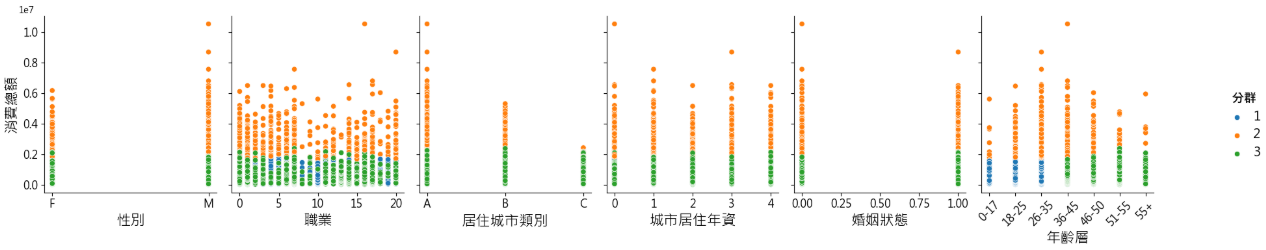

The dashboard page shown, as its layout file describes it:
{"tool":"powerbi","page":{"name":"各屬性與購買金額的分群結果","canvas":[1280,720],"ordinal":0},"visuals":[{"type":"pythonVisual","fields":{"Values":["K-prototypes用資料.City_Category","K-prototypes用資料.Cluster","K-prototypes用資料.Gender","K-prototypes用資料.Marital_Status","K-prototypes用資料.Occupation","K-prototypes用資料.Age","K-prototypes用資料.Purchase_Amount_Sum","K-prototypes 分群.Stay_In_Current_City_Years"]},"box":[18.7,17.6,1261.3,264.4],"z":0}]}

Visuals, with their boxes on the page's 1280x720 design canvas (x1, y1, x2, y2). These are canvas units, not pixel positions in the 1266x250 screenshot, which may show the page scaled, cropped or inside an application window:
pythonVisual - K-prototypes用資料.City_Category x K-prototypes用資料.Cluster: box=[19, 18, 1280, 282]
